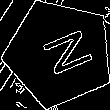N_SW: (27, 25, 91, 82)
